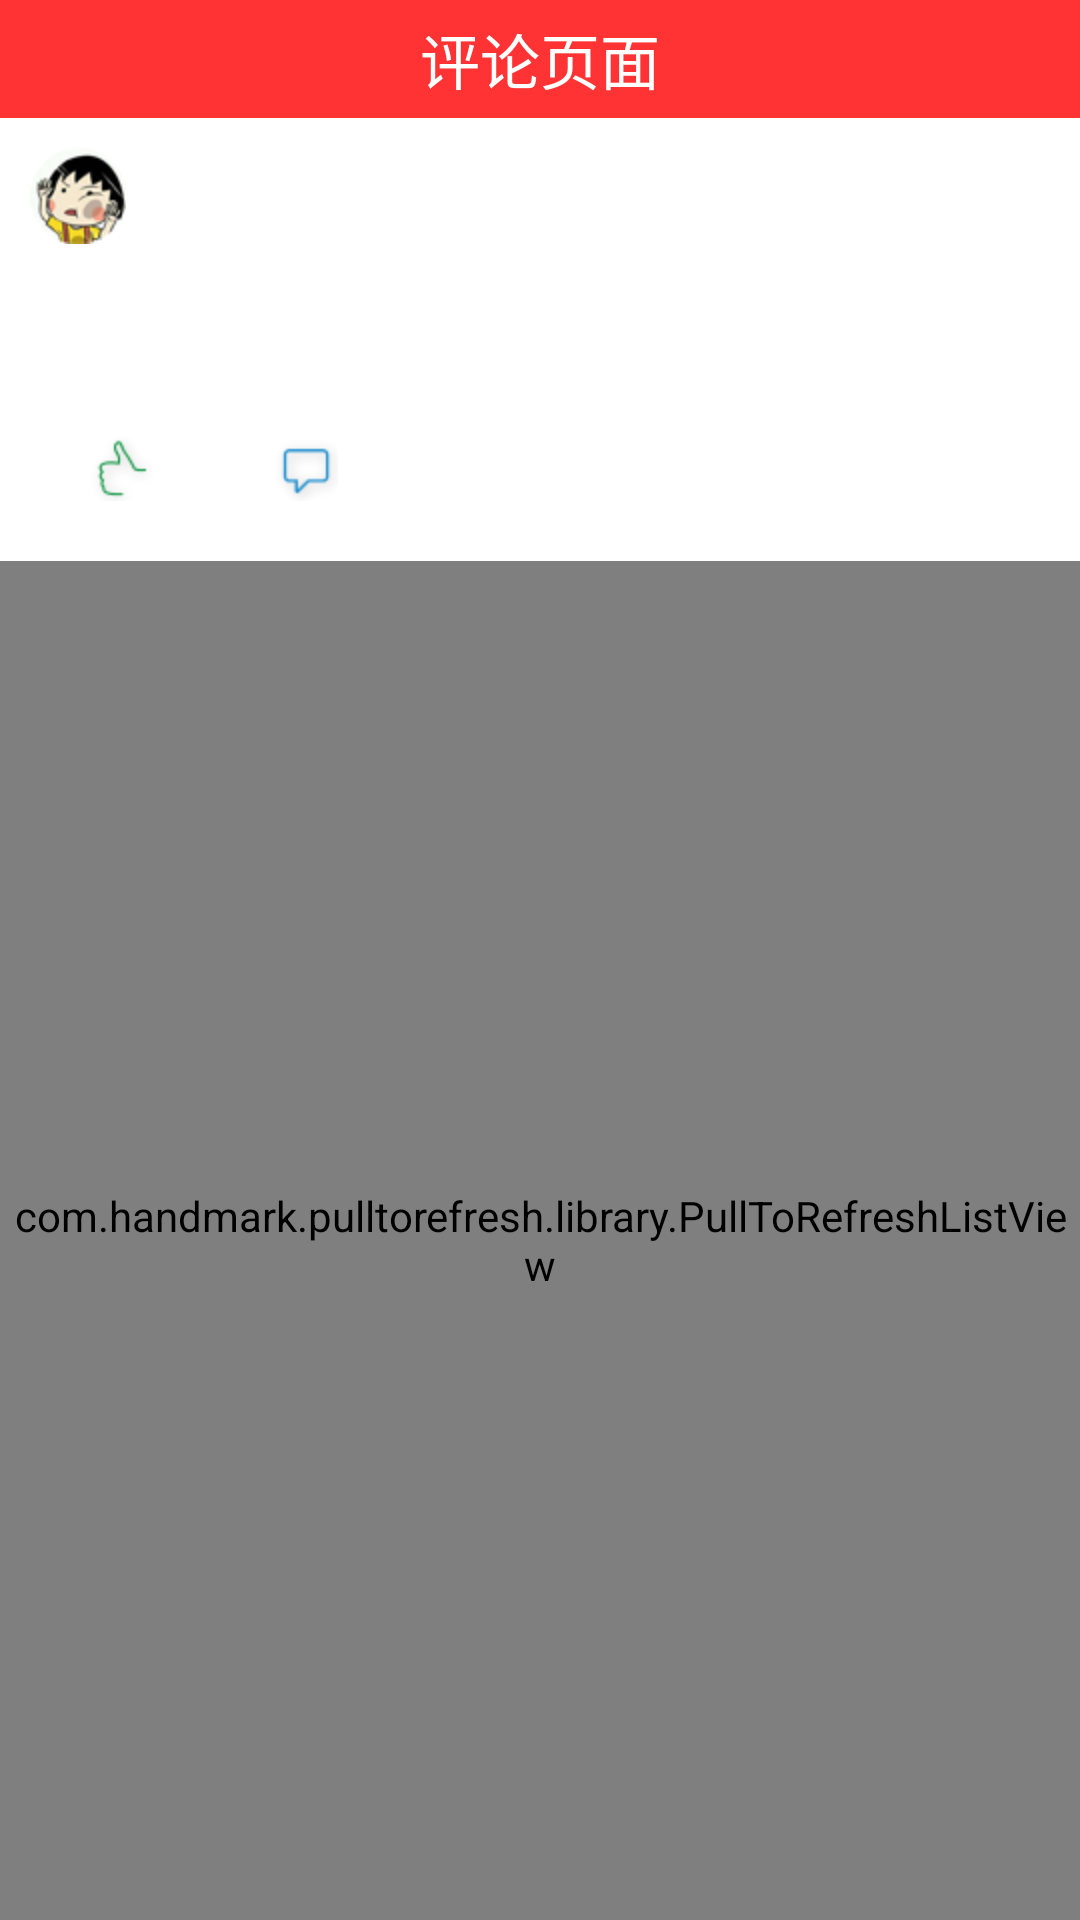

Screen size 1080*1920. Icon name, then its center in pixels as point (x, y):
comment: point (306, 471)
portrait: point (81, 199)
praise: point (122, 468)
